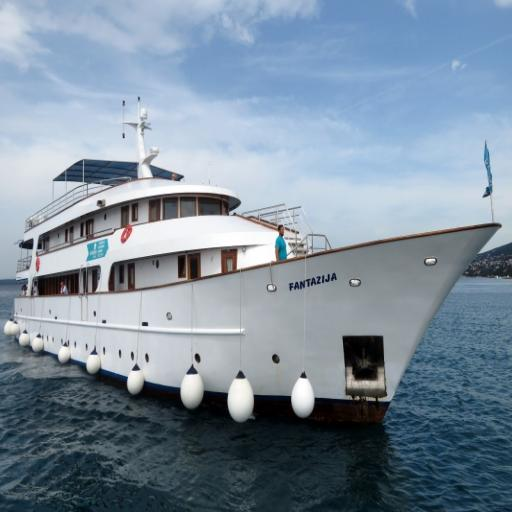cruises: (5, 96, 507, 424)
